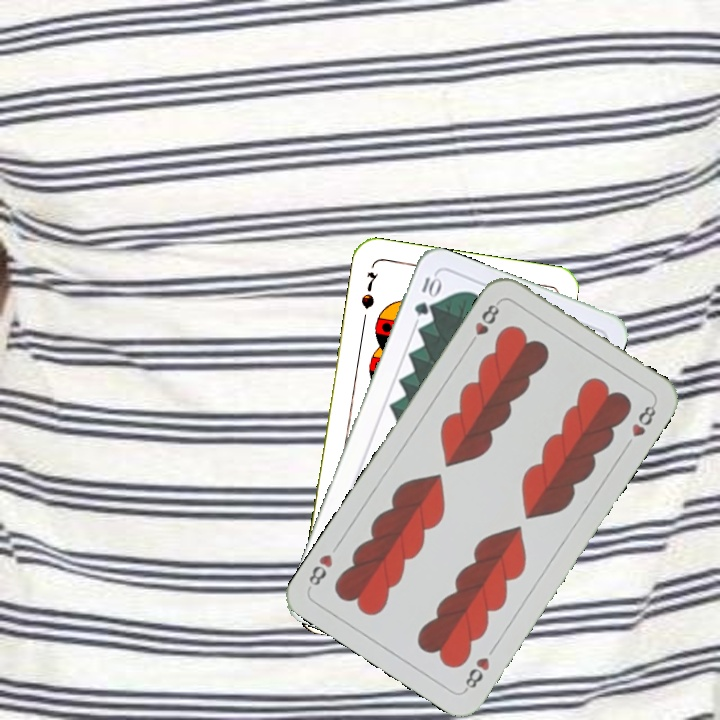G10: (410, 270, 443, 319)
H8: (464, 297, 503, 350), (460, 653, 493, 694)
S7: (357, 268, 381, 312)
